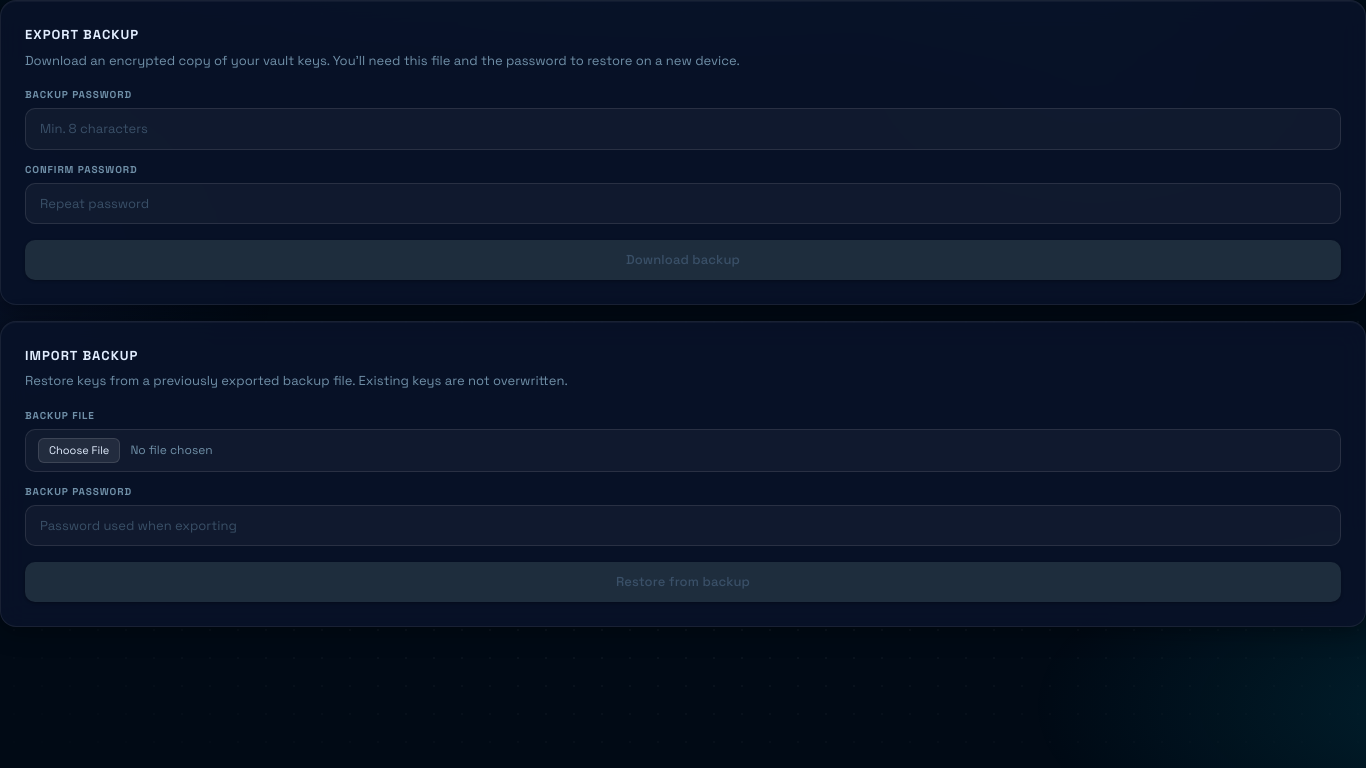
Test: VaultBackup — Export panel › shows error message when exportBackup rejects
Type "strongpass1" into the password field with placeholder "Min. 8 characters".
click(683, 129); type("strongpass1")  # box [25,108,1341,150]
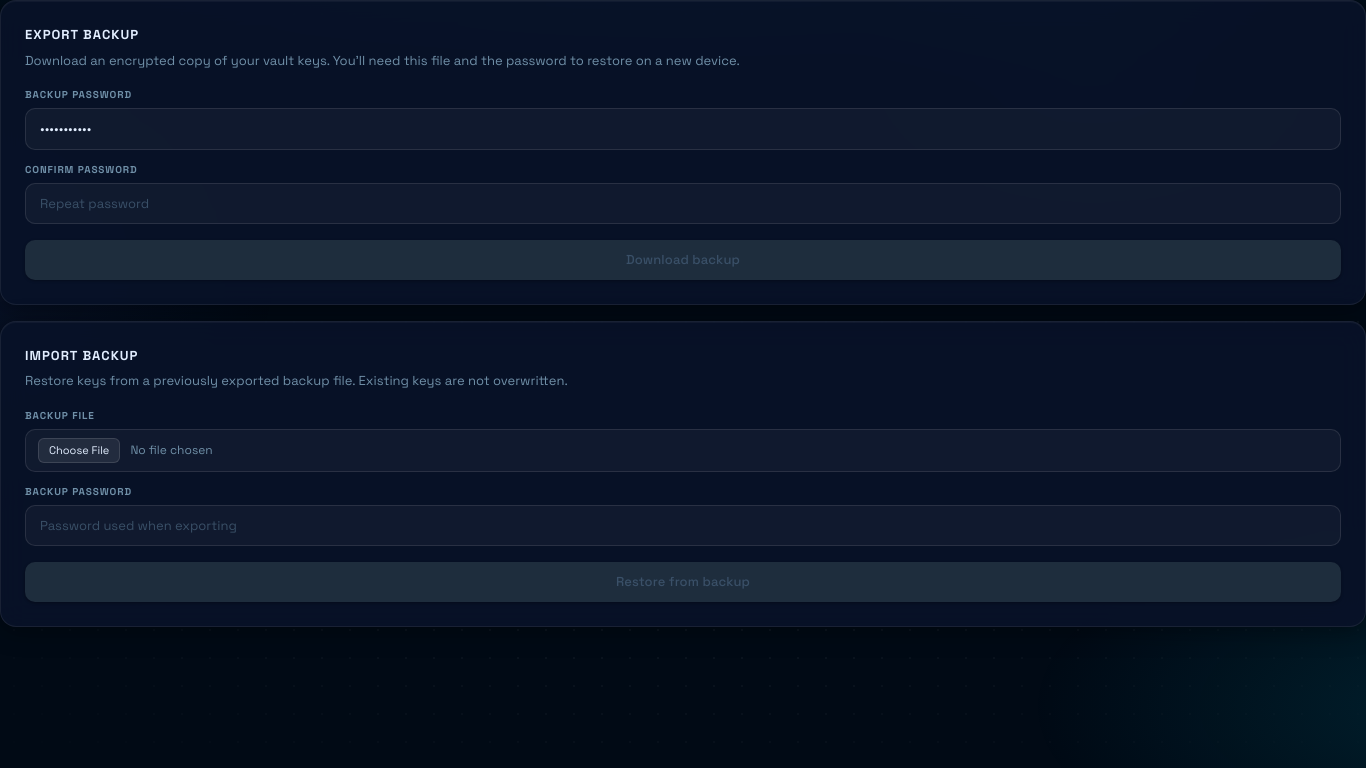
Type "strongpass1" into the password field with placeholder "Repeat password".
click(683, 204); type("strongpass1")  # box [25,183,1341,224]
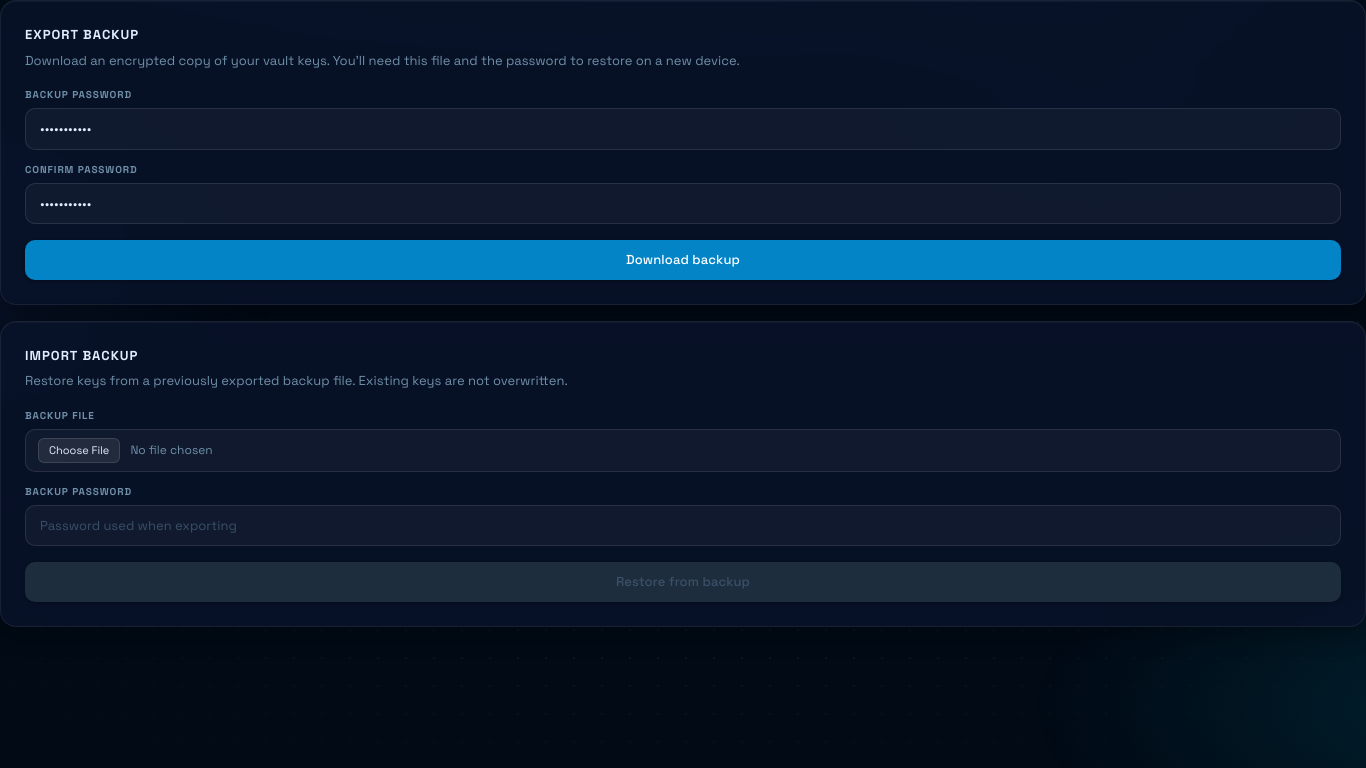
Click the button "Download backup".
click(683, 260)  # box [25,240,1341,280]
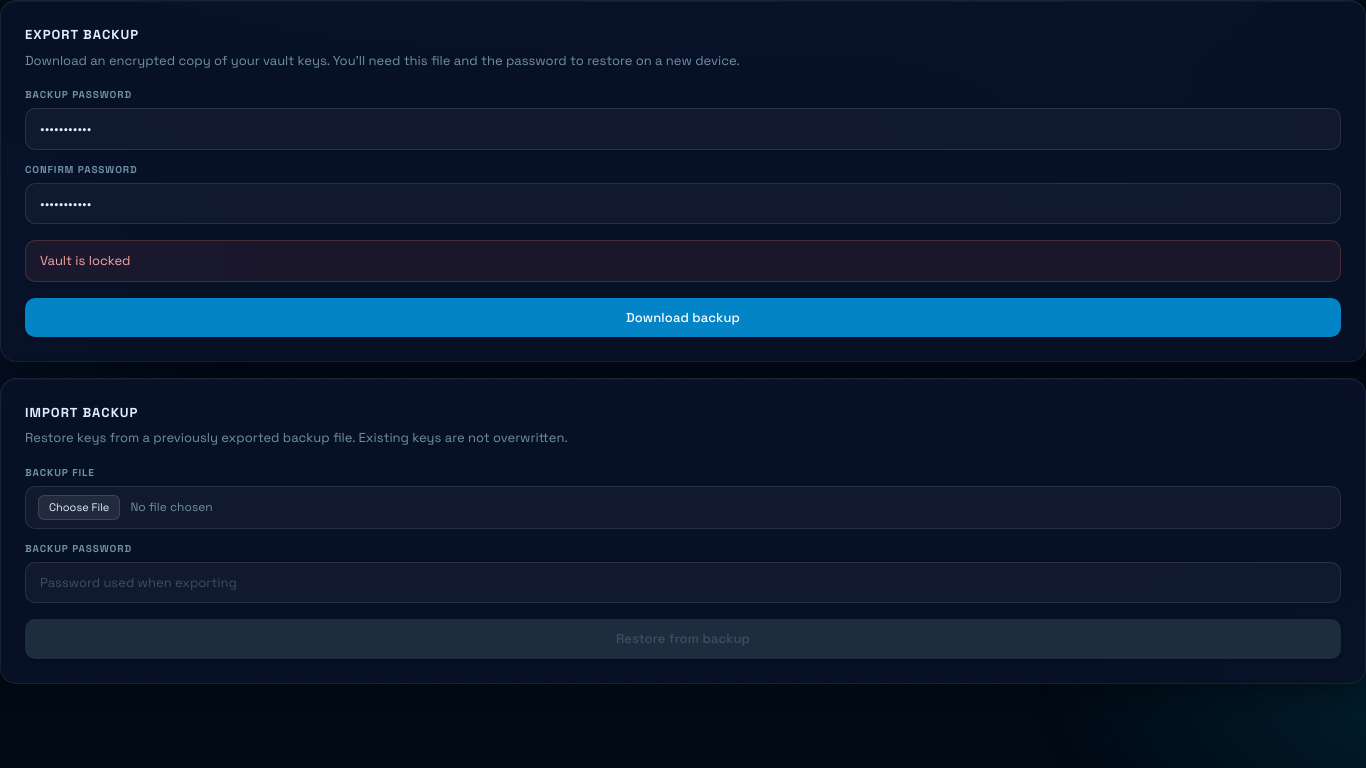
Expected: the text "Vault is locked" is shown, [25,240,1341,282]
